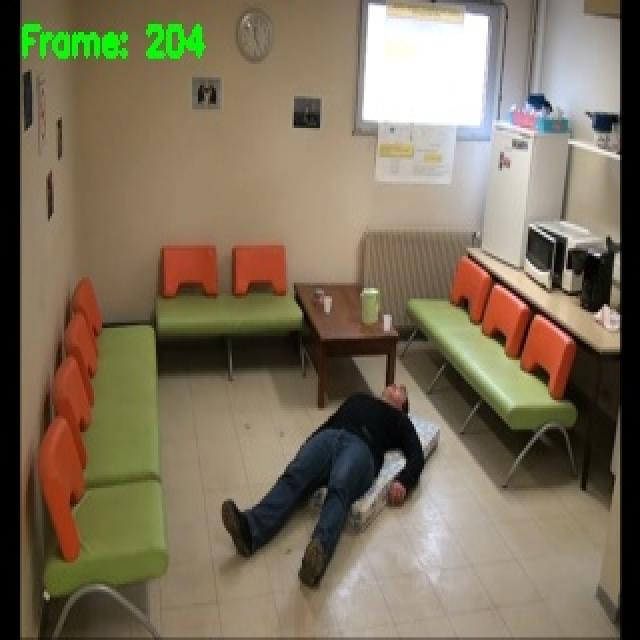Fall: (224, 389, 426, 595)
